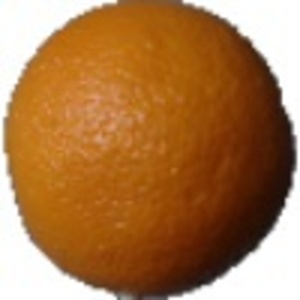laranja: (6, 5, 292, 292)
